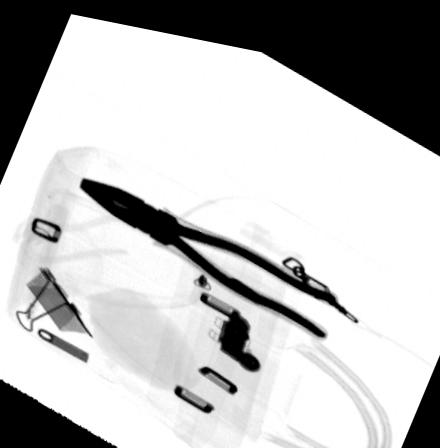Pliers: (78, 173, 340, 328)
